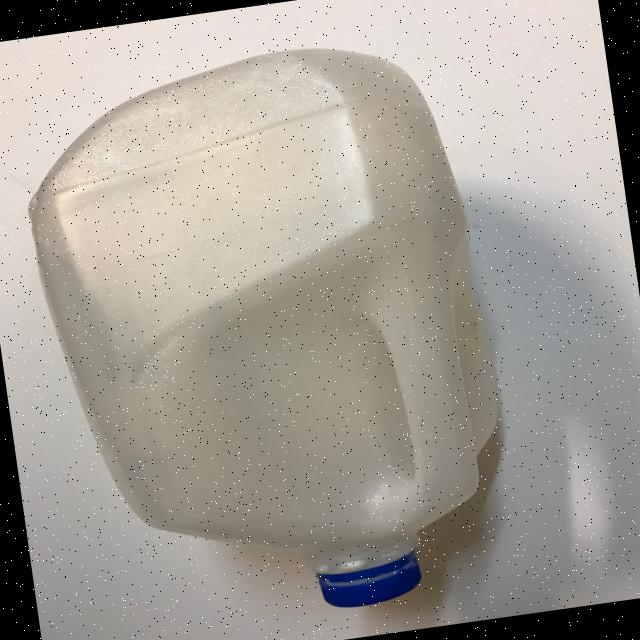plastic: (9, 26, 526, 640)
